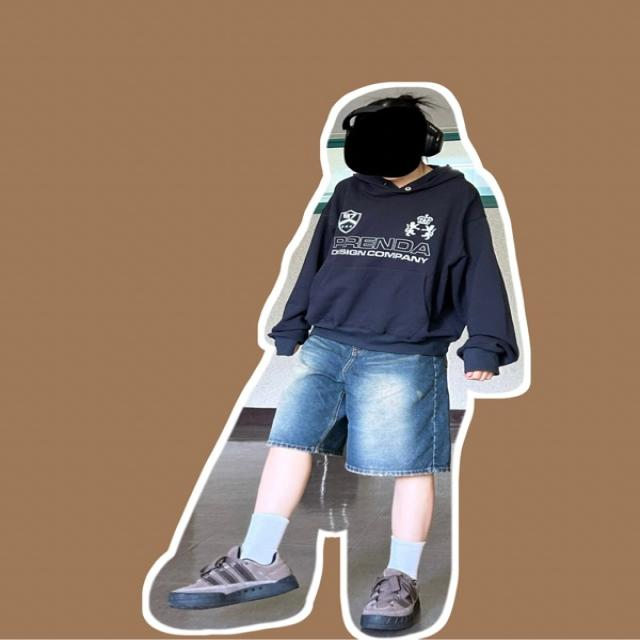hoodies: (275, 166, 522, 374)
shortpants: (271, 330, 457, 480)
